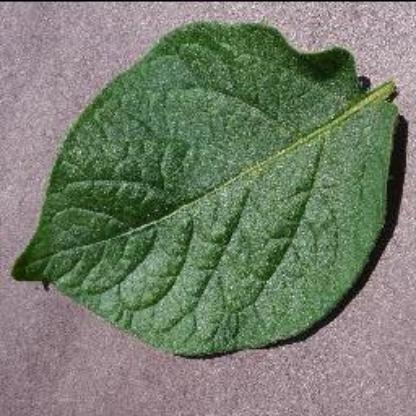Healthy-plant: (15, 19, 412, 367)
